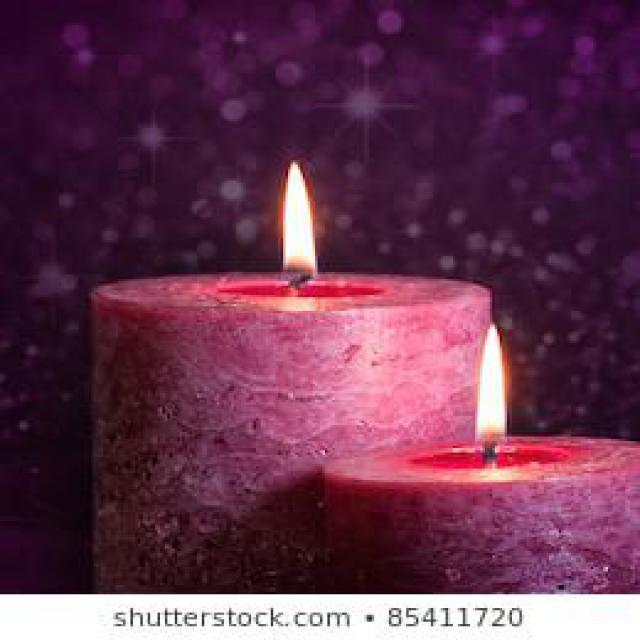Fire: (475, 323, 507, 454), (282, 161, 314, 285)
